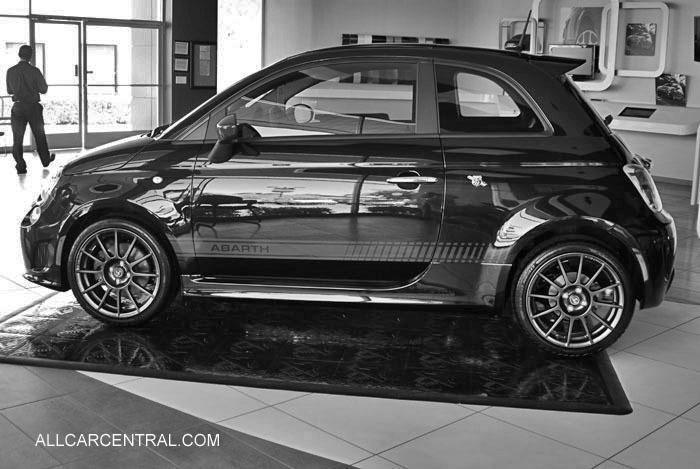car: (19, 9, 681, 363)
